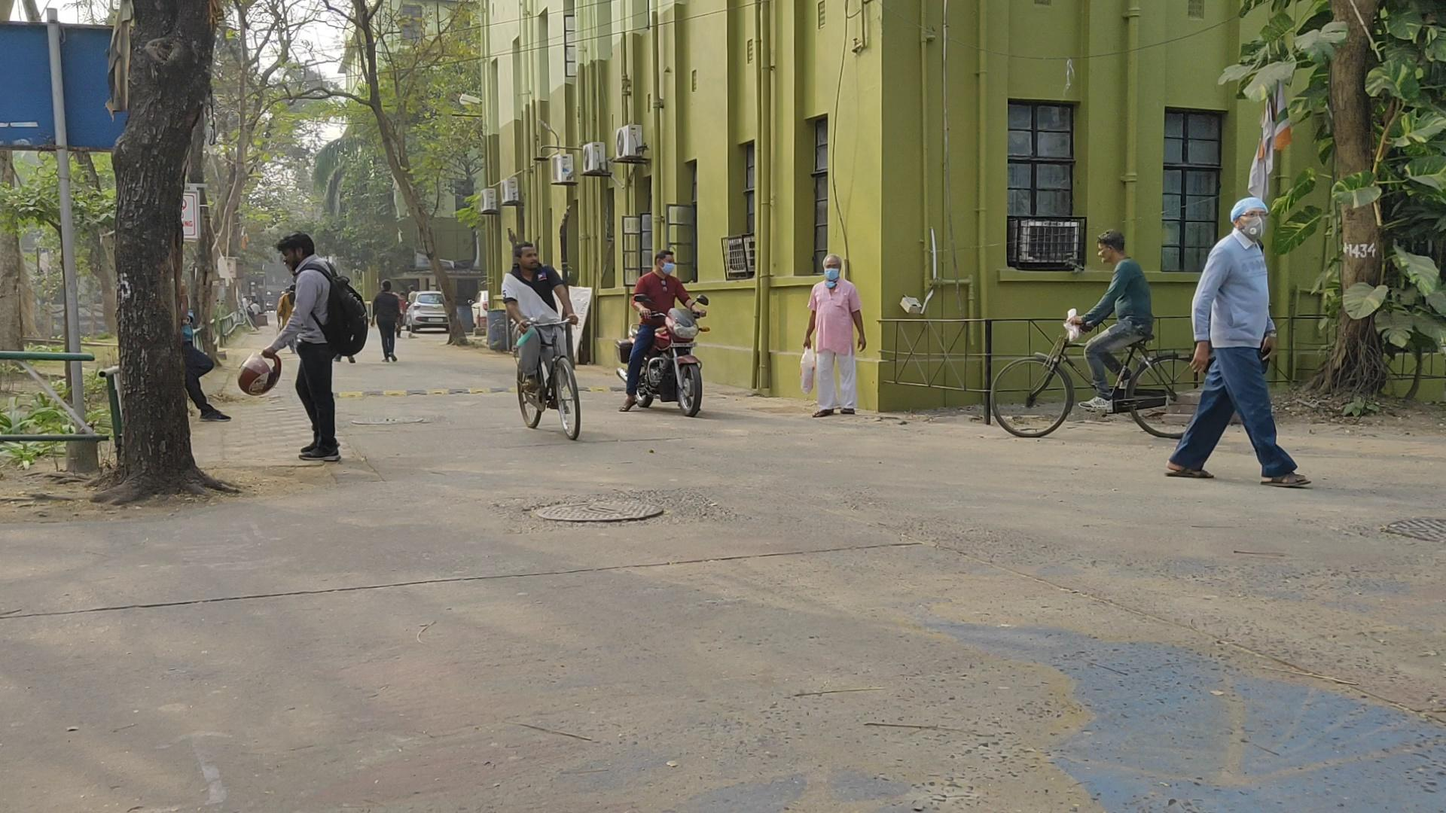bike: (990, 230, 1216, 441), (502, 245, 584, 440), (612, 251, 708, 417)
car: (404, 290, 450, 333)
